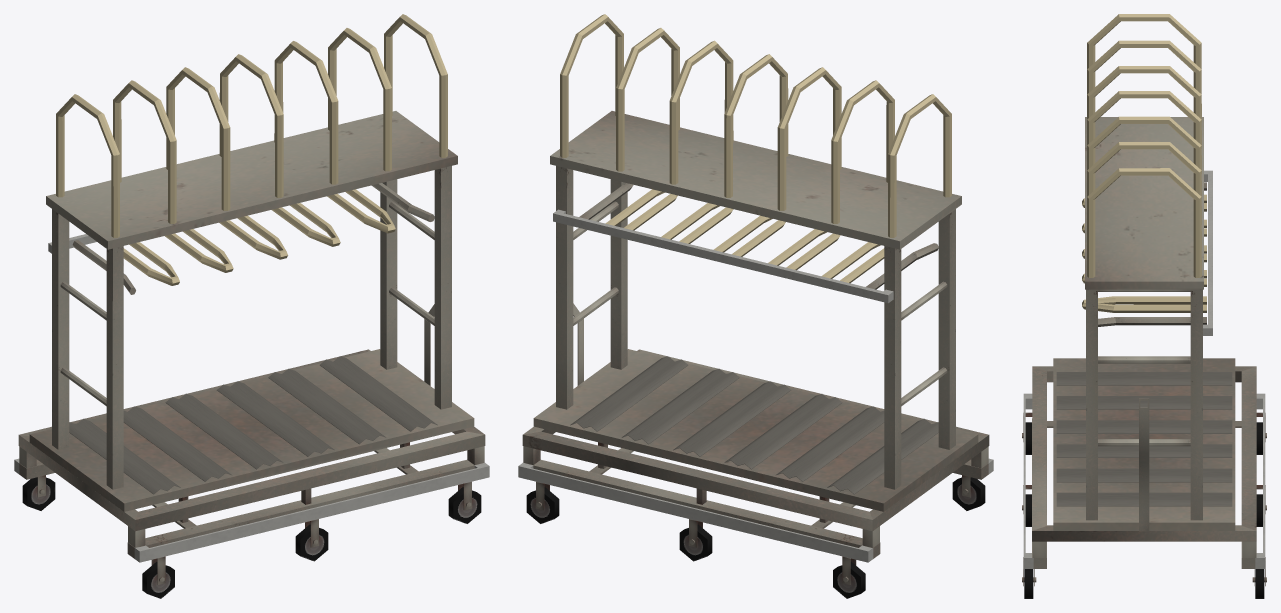
Rendered from yunshu04.FBX.
3 renders of one model, left to right at view 1: azimuth 30°, elevation 25°; view 2: azimuth 150°, elevation 25°; view 3: azimuth 270°, elevation 25°, orthographic. The views are drawn at different scales.
Visible parts, largest first — view 1: YF_Model_yunshu04; view 2: YF_Model_yunshu04; view 3: YF_Model_yunshu04.
Boxes of the visible parts, bbox=[...] form: YF_Model_yunshu04: bbox=[14, 14, 489, 598]; YF_Model_yunshu04: bbox=[518, 14, 993, 598]; YF_Model_yunshu04: bbox=[1022, 14, 1266, 598].
Size of the model in its own units: 135 by 161 by 81.79.
Materials: 1 (1 with a texture image).
